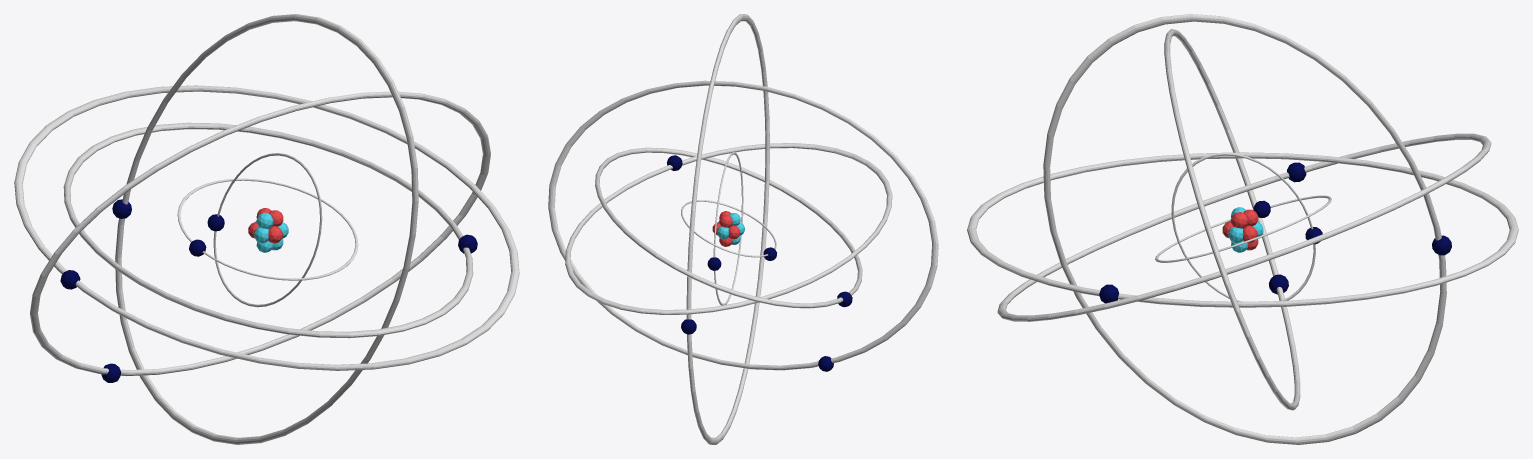
File: primitive_carbon_atom.glb
3 renders of one model, left to right at view 1: azimuth 30°, elevation 25°; view 2: azimuth 150°, elevation 25°; view 3: azimuth 270°, elevation 25°, orthographic. The views are drawn at different scales.
Parts seen in each view (by area): view 1: Torus.002_6, Torus.003_8, Torus.001_4, Torus_2, Torus.004_10, Torus.005_12; view 2: Torus.001_4, Torus.003_8, Torus_2, Torus.002_6, Torus.005_12, Torus.004_10; view 3: Torus.003_8, Torus_2, Torus.002_6, Torus.001_4, Torus.005_12, Torus.004_10.
Part boxes in pixels (box(x1,y1,x2,y2)): Torus.002_6: box(14, 85, 519, 370); Torus.003_8: box(115, 14, 418, 444); Torus.001_4: box(30, 91, 490, 376); Torus_2: box(63, 122, 473, 338); Torus.004_10: box(177, 178, 358, 280); Torus.005_12: box(213, 153, 322, 307); Torus.001_4: box(548, 80, 938, 370); Torus.003_8: box(686, 14, 769, 444); Torus_2: box(565, 143, 892, 314); Torus.002_6: box(595, 147, 862, 308); Torus.005_12: box(713, 152, 743, 305); Torus.004_10: box(681, 200, 776, 257); Torus.003_8: box(1043, 14, 1446, 444); Torus_2: box(967, 152, 1518, 307); Torus.002_6: box(997, 133, 1491, 321); Torus.001_4: box(1164, 29, 1300, 410); Torus.005_12: box(1171, 152, 1315, 301); Torus.004_10: box(1155, 195, 1331, 262).
Bounding box in the file's own units: 5.5 × 5.04 × 5.51.
